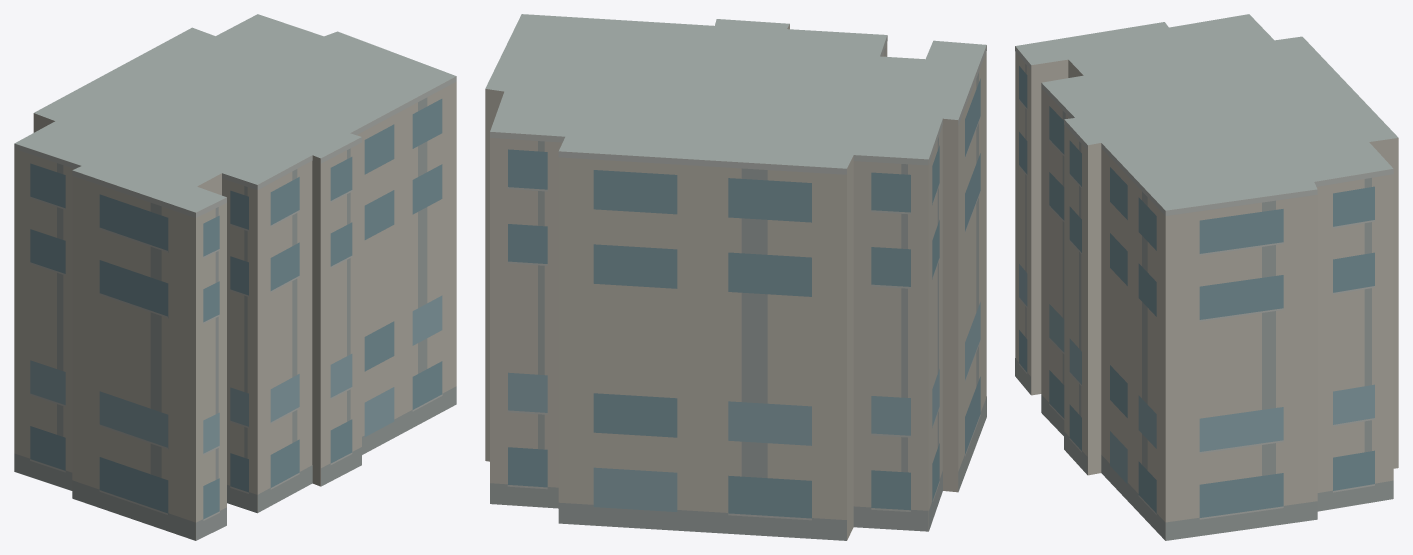
File: survey-upis-33046247.glb
The picture shows the model from 3 angles, left to right: view 1: azimuth 30°, elevation 25°; view 2: azimuth 150°, elevation 25°; view 3: azimuth 270°, elevation 25°; orthographic projection. The views are drawn at different scales.
Parts seen in each view (by area): view 1: survey-upis-33046247.tmp; view 2: survey-upis-33046247.tmp; view 3: survey-upis-33046247.tmp.
Part boxes in pixels (x1,y1,x2,y2): survey-upis-33046247.tmp: (14, 14, 456, 540); survey-upis-33046247.tmp: (485, 14, 986, 540); survey-upis-33046247.tmp: (1015, 14, 1398, 540).
Size of the model in its own units: 19.04 by 14.9 by 15.69.
